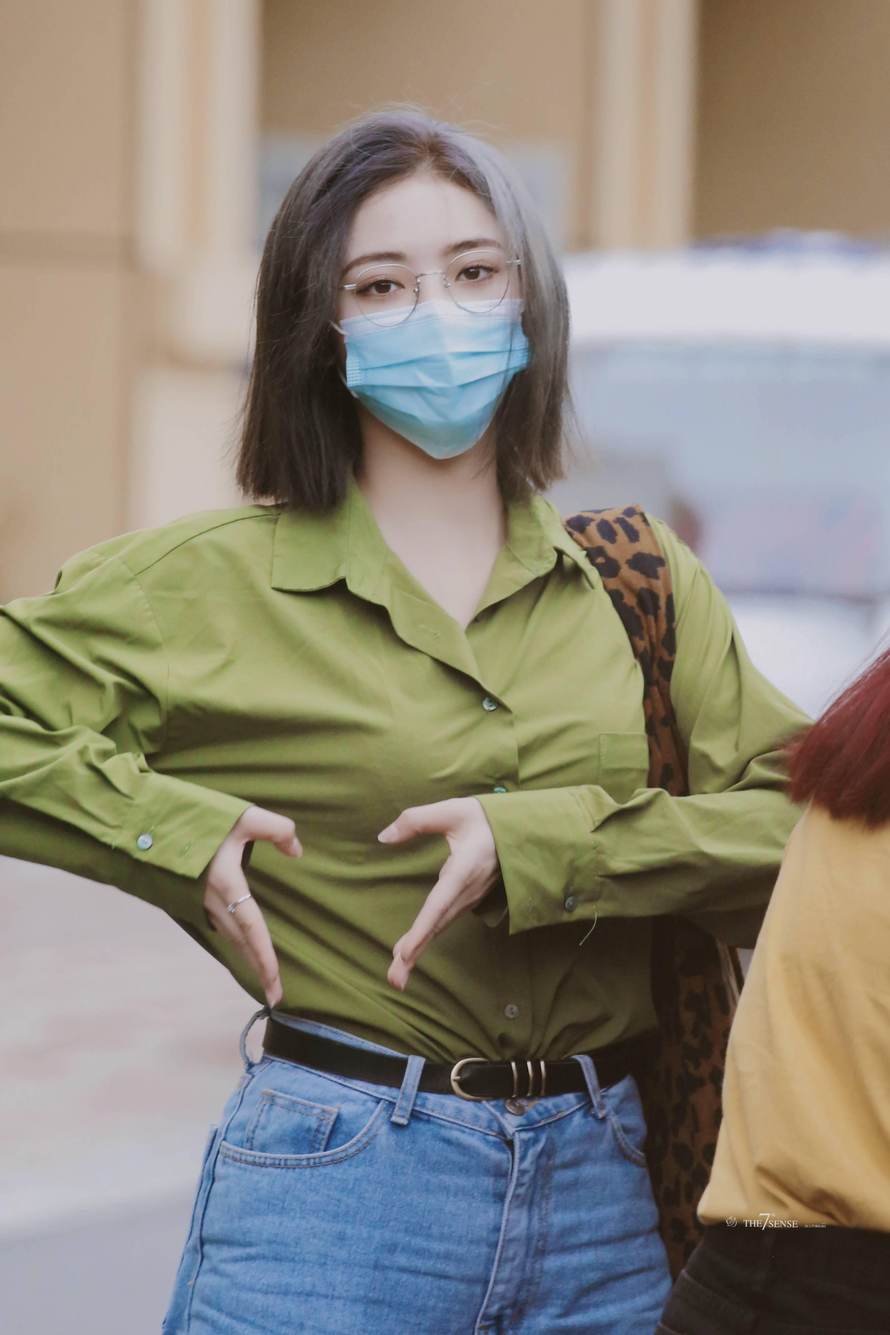OK: (343, 203, 531, 459)
